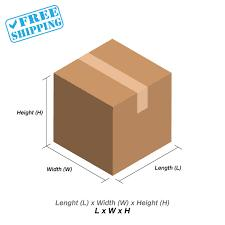cube: (52, 40, 172, 174)
